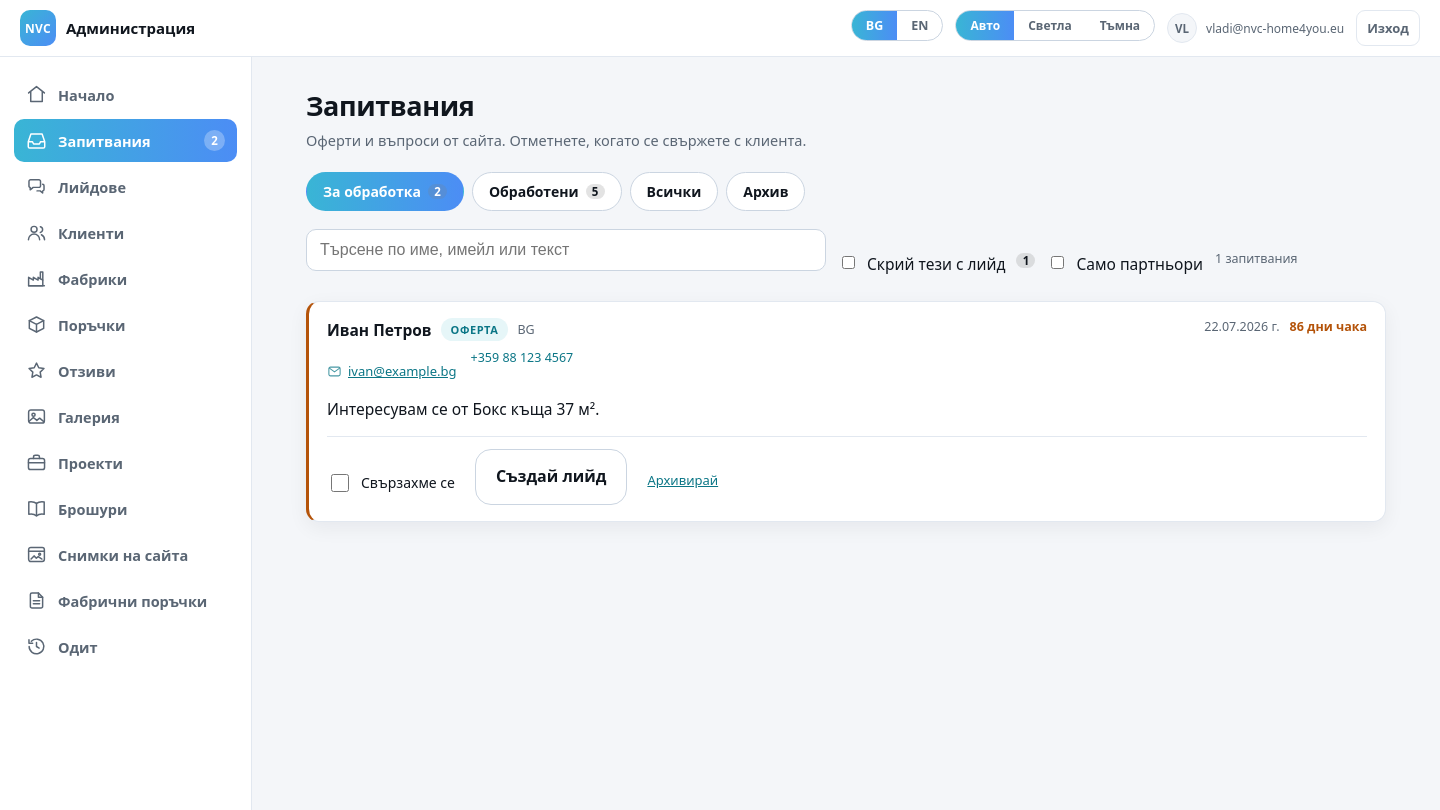
Test: AdminInquiriesPage › says there are none rather than showing an empty queue message
Click the checkbox labelled "Само партньори": (1058, 262) [1051,256,1064,269]
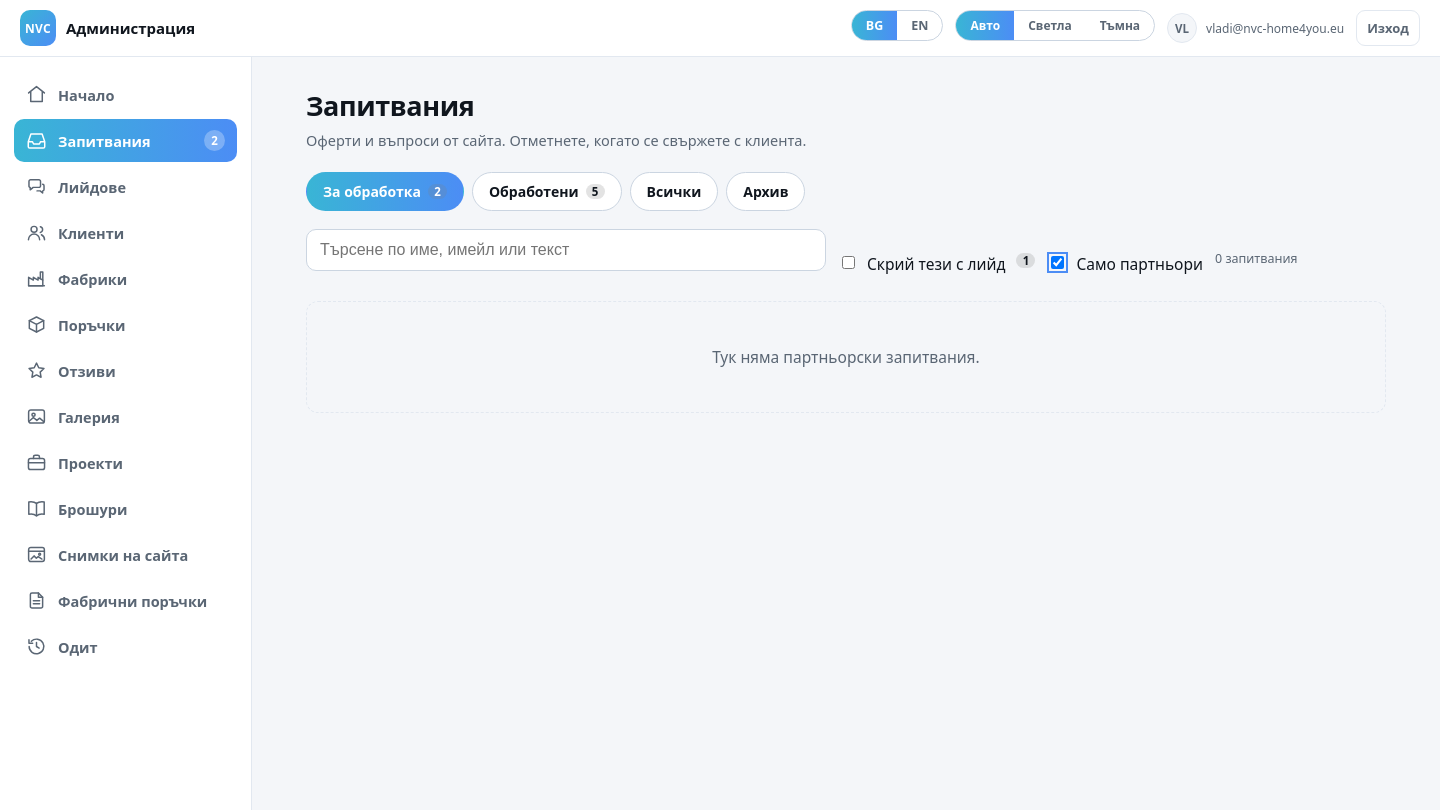
expect the text "Тук няма партньорски запитвания." is shown: met, box [712,346,980,368]
